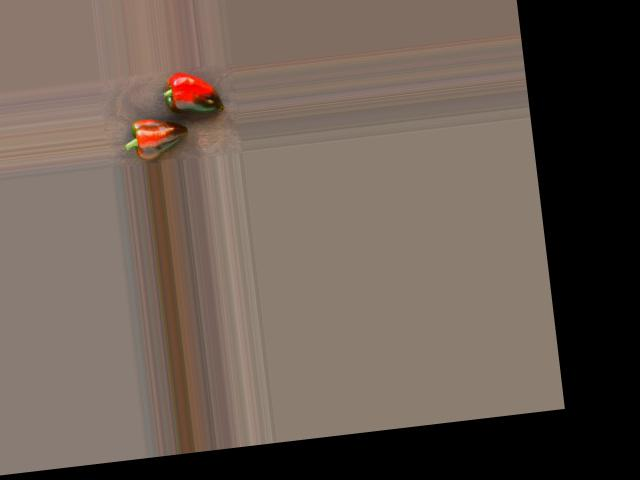bell_pepper: (140, 65, 227, 123)
